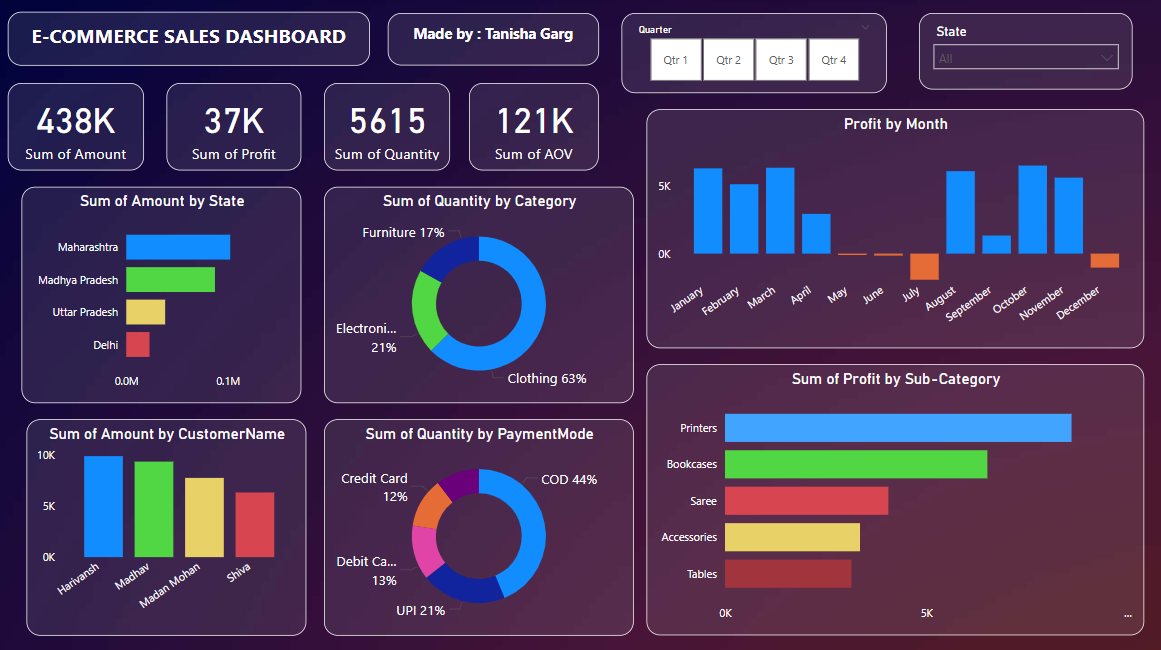

The dashboard page shown, as its layout file describes it:
{"tool":"powerbi","page":{"name":"Page 1","canvas":[1280,720],"ordinal":0},"visuals":[{"type":"textbox","box":[9.6,15.1,397.9,59],"z":0},{"type":"columnChart","title":"Profit by Month","fields":{"Category":["Orders.Order Date.Variation.Date Hierarchy.Month"],"Y":["Sum(Details.Profit)"]},"box":[710.8,122.1,546.1,262.1],"z":1000},{"type":"barChart","fields":{"Category":["Details.Sub-Category"],"Y":["Sum(Details.Profit)"]},"box":[710.8,402.1,546.1,297.8],"z":2000},{"type":"donutChart","fields":{"Category":["Details.Category"],"Y":["Sum(Details.Quantity)"]},"box":[356.8,207.2,340.3,237.4],"z":3000},{"type":"donutChart","fields":{"Category":["Details.PaymentMode"],"Y":["Sum(Details.Quantity)"]},"box":[356.8,462.4,340.3,237.4],"z":4000},{"type":"card","fields":{"Values":["Sum(Details.Amount)"]},"box":[9.6,93.3,149.6,96.1],"z":5000},{"type":"card","fields":{"Values":["Sum(Details.Profit)"]},"box":[183.9,93.3,148.2,96.1],"z":6000},{"type":"card","fields":{"Values":["Sum(Details.Quantity)"]},"box":[356.8,93.3,138.6,96.1],"z":7000},{"type":"card","fields":{"Values":["Sum(Details.AOV)"]},"box":[516,93.3,142.7,96.1],"z":8000},{"type":"barChart","fields":{"Category":["Orders.State"],"Y":["Sum(Details.Amount)"]},"box":[24.7,207.2,307.4,237.4],"z":9000},{"type":"columnChart","fields":{"Category":["Orders.CustomerName"],"Y":["Sum(Details.Amount)"]},"box":[30.2,462.4,307.4,237.4],"z":10000},{"type":"slicer","fields":{"Values":["Orders.Order Date.Variation.Date Hierarchy.Quarter"]},"box":[683.4,16.5,290.9,87.8],"z":11000},{"type":"slicer","fields":{"Values":["Orders.State"]},"box":[1010,16.5,234.6,83.7],"z":11001},{"type":"textbox","box":[426.8,16.5,231.9,57.6],"z":11002}]}

Visuals, with their boxes in screenshot pixels (x1, y1, x2, y2), scaled from the page's 1280x720 canvas onto the 1161x650 screenshot:
textbox: [x1=9, y1=14, x2=370, y2=67]
"Profit by Month" columnChart: [x1=645, y1=110, x2=1140, y2=347]
barChart - Details.Sub-Category x Sum(Details.Profit): [x1=645, y1=363, x2=1140, y2=632]
donutChart - Details.Category x Sum(Details.Quantity): [x1=324, y1=187, x2=632, y2=401]
donutChart - Details.PaymentMode x Sum(Details.Quantity): [x1=324, y1=417, x2=632, y2=632]
card - Sum(Details.Amount): [x1=9, y1=84, x2=144, y2=171]
card - Sum(Details.Profit): [x1=167, y1=84, x2=301, y2=171]
card - Sum(Details.Quantity): [x1=324, y1=84, x2=449, y2=171]
card - Sum(Details.AOV): [x1=468, y1=84, x2=597, y2=171]
barChart - Orders.State x Sum(Details.Amount): [x1=22, y1=187, x2=301, y2=401]
columnChart - Orders.CustomerName x Sum(Details.Amount): [x1=27, y1=417, x2=306, y2=632]
slicer - Orders.Order Date.Variation.Date Hierarchy.Quarter: [x1=620, y1=15, x2=884, y2=94]
slicer - Orders.State: [x1=916, y1=15, x2=1129, y2=90]
textbox: [x1=387, y1=15, x2=597, y2=67]
